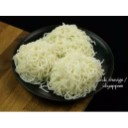idiyappam: (54, 50, 101, 94), (45, 22, 96, 55), (13, 41, 55, 80)
